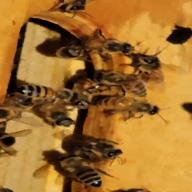Bee: (0, 66, 62, 110), (78, 68, 150, 102), (48, 154, 109, 190)
